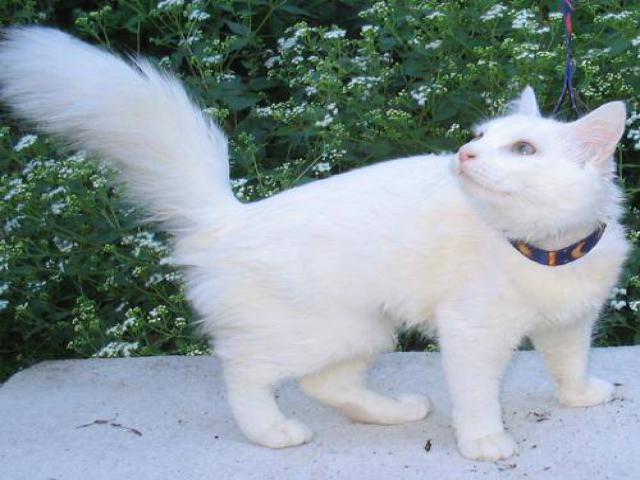cat: (5, 37, 638, 464)
